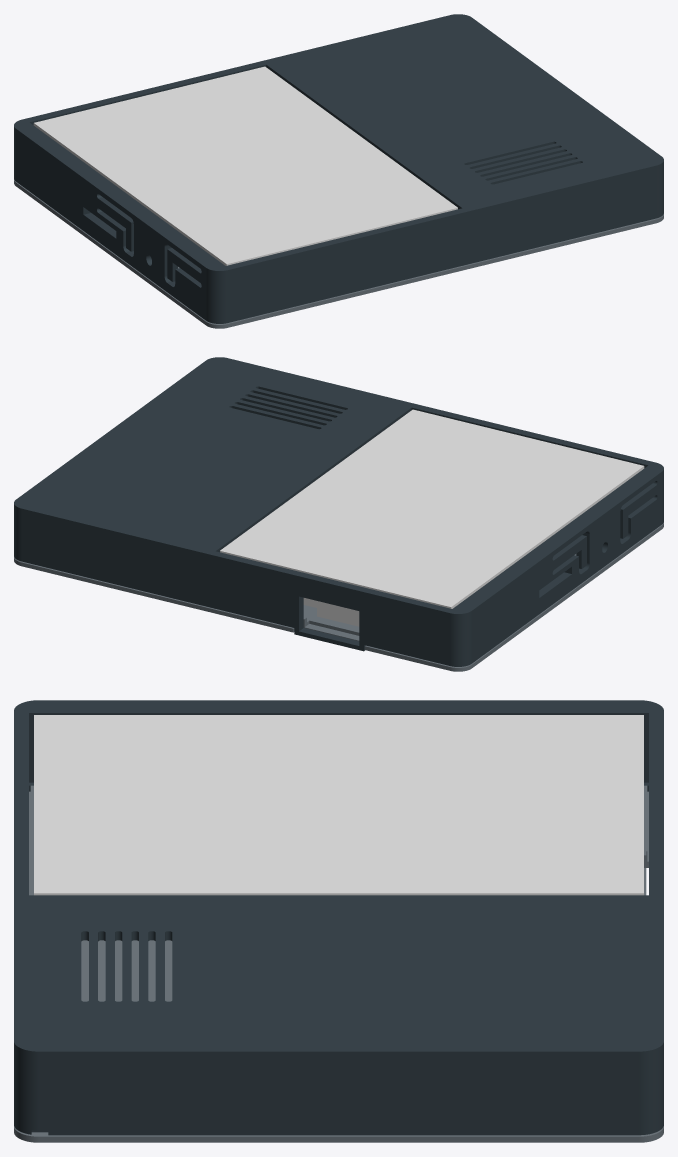
File: assembly_light.glb
3 views of the same model, one above another, from view 1: azimuth 30°, elevation 25°; view 2: azimuth 150°, elevation 25°; view 3: azimuth 270°, elevation 25° (orthographic). The views are drawn at different scales.
Parts seen in each view (by area): view 1: G_V1_front_shell, DISPLAY_ENVELOPE_NOT_FOR_CLEARANCE, G_V1_rear_shell; view 2: G_V1_front_shell, DISPLAY_ENVELOPE_NOT_FOR_CLEARANCE, G_V1_rear_shell; view 3: G_V1_front_shell, DISPLAY_ENVELOPE_NOT_FOR_CLEARANCE, G_V1_rear_shell, G_V1_speaker.
Part boxes in pixels (x1,y1,x2,y2): G_V1_front_shell: (14,14,663,323); DISPLAY_ENVELOPE_NOT_FOR_CLEARANCE: (33,66,457,265); G_V1_rear_shell: (14,179,663,328); G_V1_front_shell: (14,357,663,666); DISPLAY_ENVELOPE_NOT_FOR_CLEARANCE: (220,409,644,618); G_V1_rear_shell: (14,522,663,671); G_V1_front_shell: (14,700,663,1135); DISPLAY_ENVELOPE_NOT_FOR_CLEARANCE: (34,715,643,895); G_V1_rear_shell: (14,785,663,1142); G_V1_speaker: (81,940,172,1001).
Bounding box in the file's own units: 0.0996 × 0.0124 × 0.0779.
